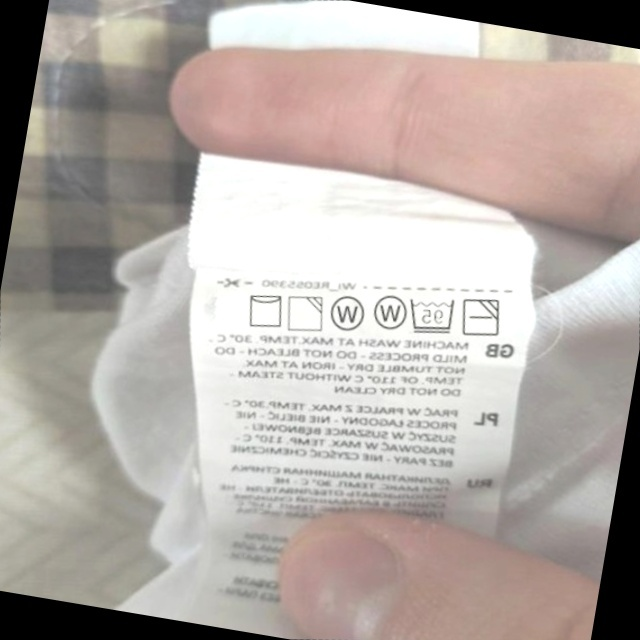95C: (402, 288, 462, 341)
dry_flat_in_shade: (456, 290, 508, 344)
line_dry: (239, 285, 290, 335)
shade_dry: (280, 288, 330, 339)
wet_clean: (323, 289, 371, 339), (365, 286, 412, 337)
